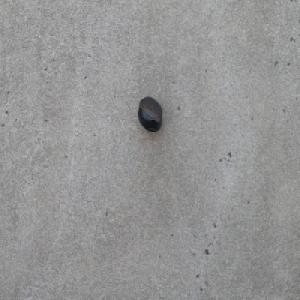FuelCap: (137, 95, 163, 133)
